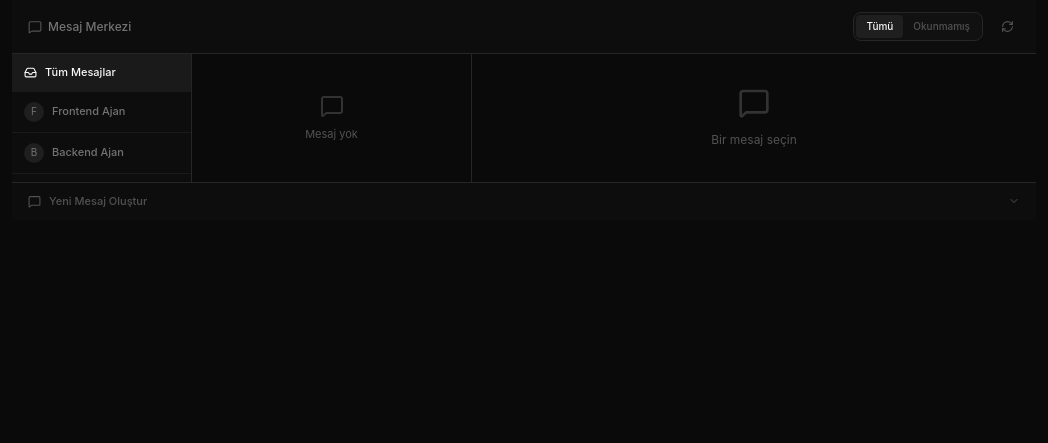
Test: MessageCenter — yeni mesaj compose › "Yeni Mesaj Oluştur" butonuna tiklaninca compose alani acilmali
The image size is (1048, 443).
Expected: the text "Yeni Mesaj Oluştur" is shown, top-left (49, 193), bottom-right (147, 210)
Click the button "Yeni Mesaj Oluştur". click: coordinates (98, 201)
box: top-left (12, 183), bottom-right (1036, 220)
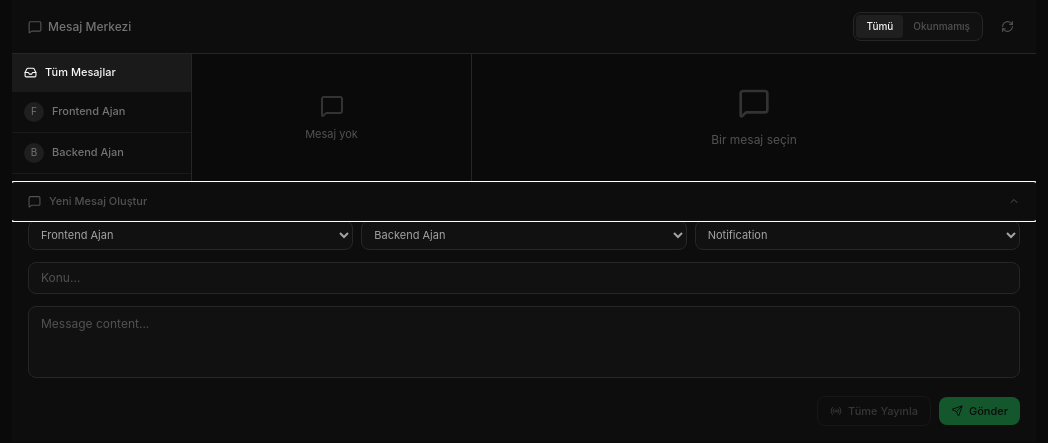
Expected: the field with placeholder "Konu..." is shown, top-left (28, 262), bottom-right (1020, 294)
